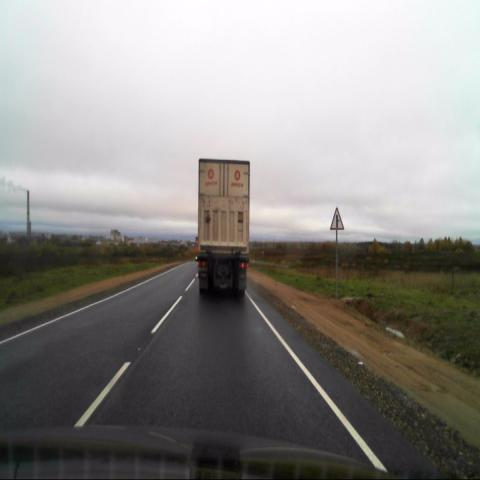2_3_2: (330, 207, 344, 230)
